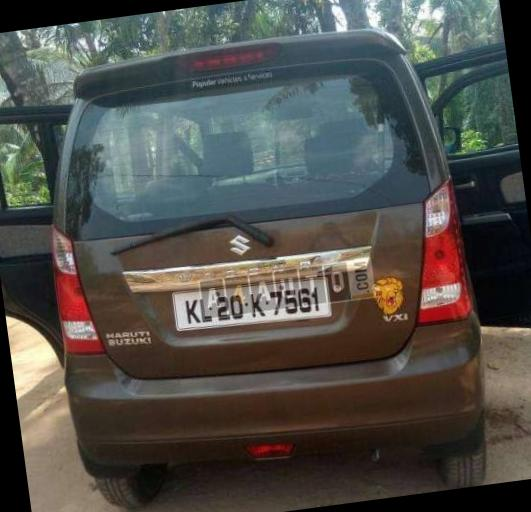plate: (159, 258, 348, 351)
